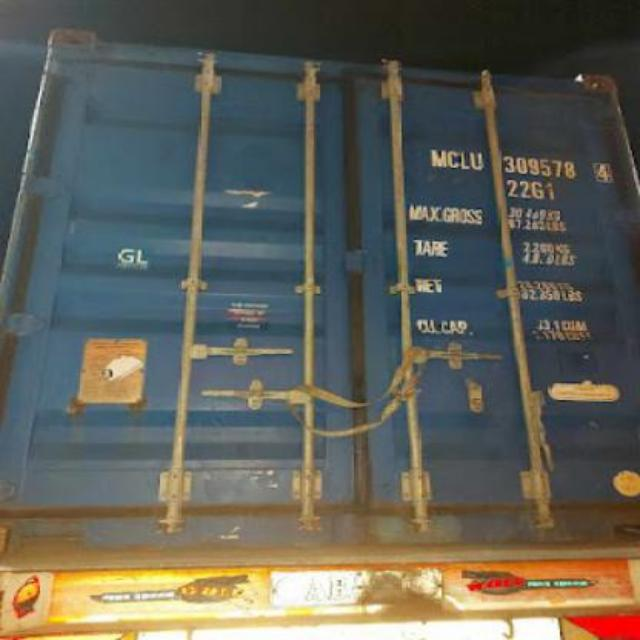0: (516, 156, 528, 174)
3: (502, 156, 514, 174)
4: (598, 164, 608, 180)
5: (540, 159, 552, 177)
7: (550, 159, 562, 177)
8: (566, 161, 576, 179)
9: (530, 157, 540, 175)
C: (448, 148, 460, 170)
L: (460, 150, 470, 172)
M: (428, 146, 446, 170)
U: (470, 152, 482, 168)
